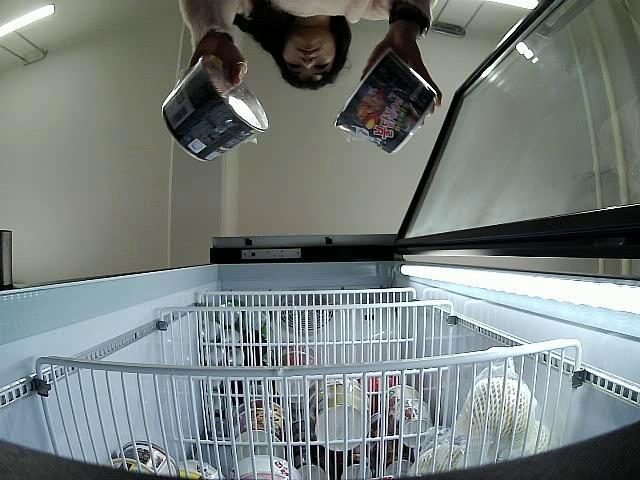07_buldak_L: (160, 57, 268, 166), (334, 46, 436, 154)
